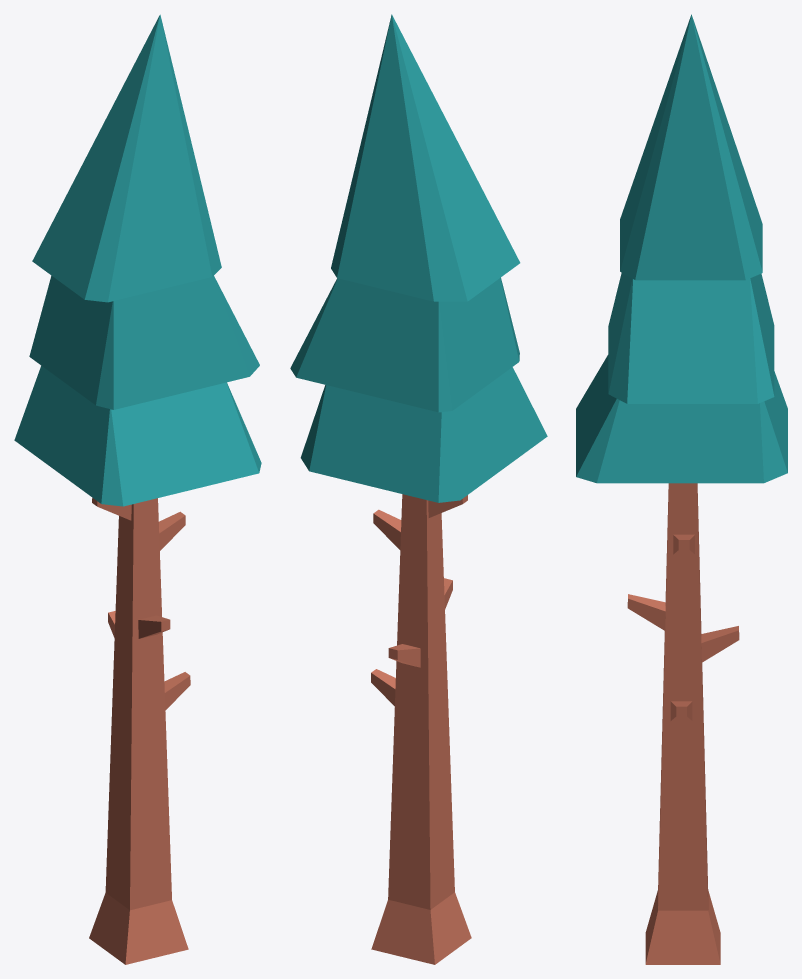
The model's file is tree_pineTallB_detailed.glb.
3 views of the same model, side by side, from view 1: azimuth 30°, elevation 25°; view 2: azimuth 150°, elevation 25°; view 3: azimuth 270°, elevation 25° (orthographic). The views are drawn at different scales.
Parts seen in each view (by area): view 1: tree_pineTallB_detailed; view 2: tree_pineTallB_detailed; view 3: tree_pineTallB_detailed.
Part boxes in pixels (x1,y1,x2,y2): tree_pineTallB_detailed: (14, 14, 261, 964); tree_pineTallB_detailed: (290, 14, 547, 964); tree_pineTallB_detailed: (576, 14, 787, 964).
Bounding box in the file's own units: 0.3863 × 1.93 × 0.392.
